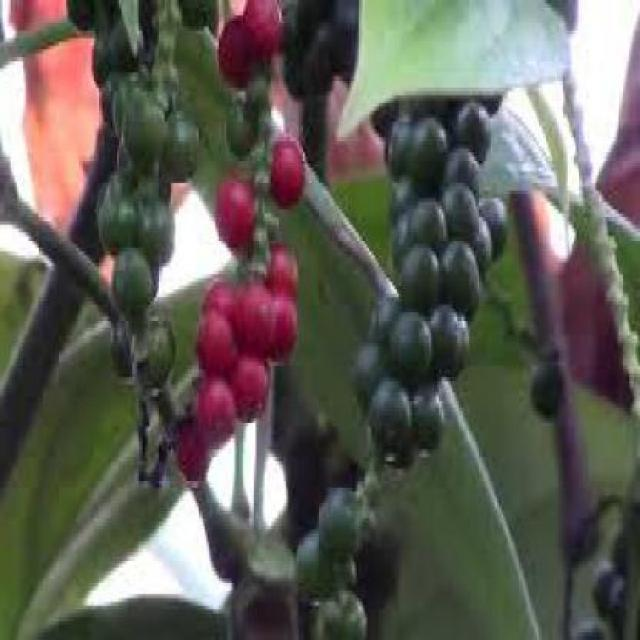RIPE: (193, 0, 316, 515)
UNRIPE: (343, 76, 489, 610), (116, 4, 187, 499)
